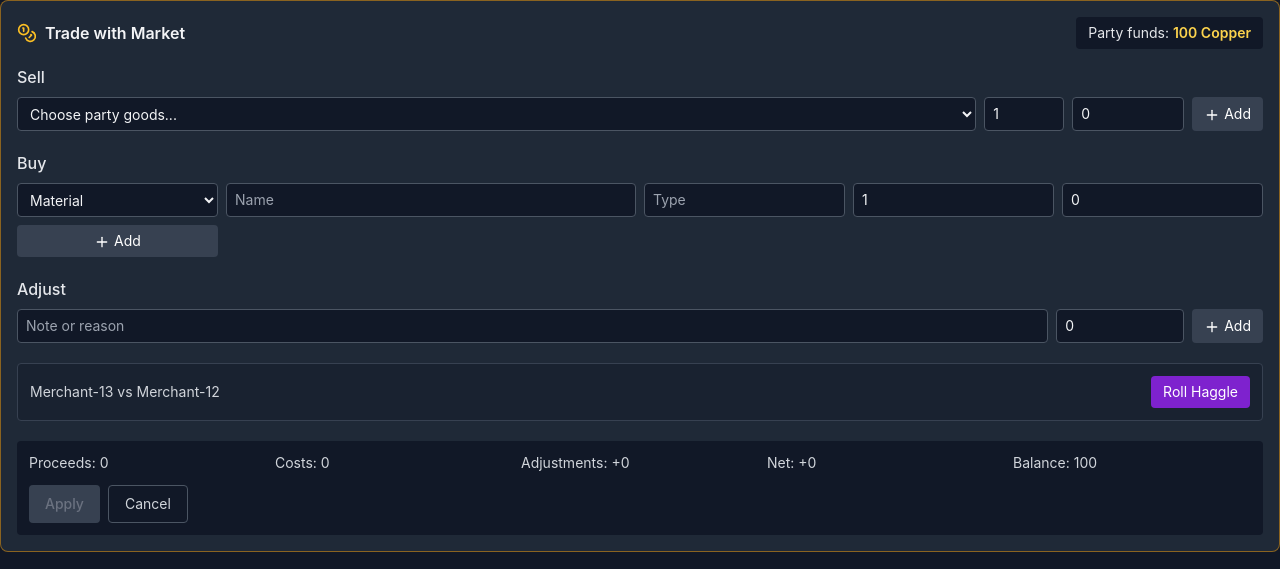
Scenario: TradingResolutionPanel › prefills learned prices for sell and buy lines
Select "Iron Ore — Party Stash (5)" in the dropdown with test id "sell-picker" at [497, 114], box [17,97,976,131]
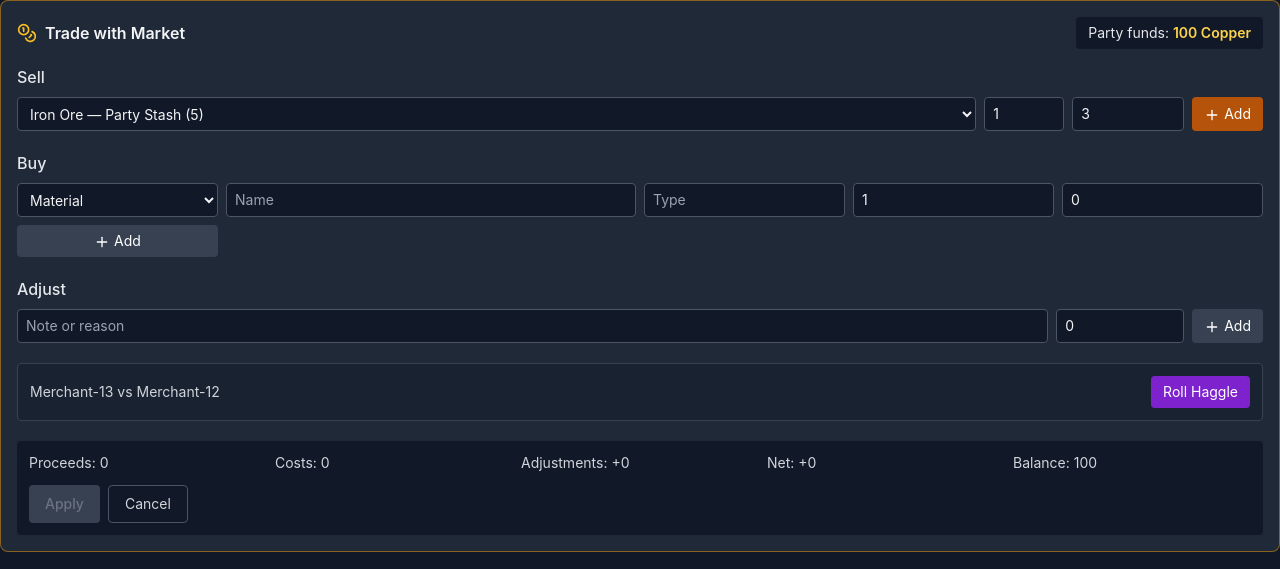
Result: the number field with test id "sell-unit-price-input" holds "3" at [1072,97,1184,131]
Select "Item" in the dropdown with test id "buy-kind-select" at [118, 200], box [17,183,218,217]
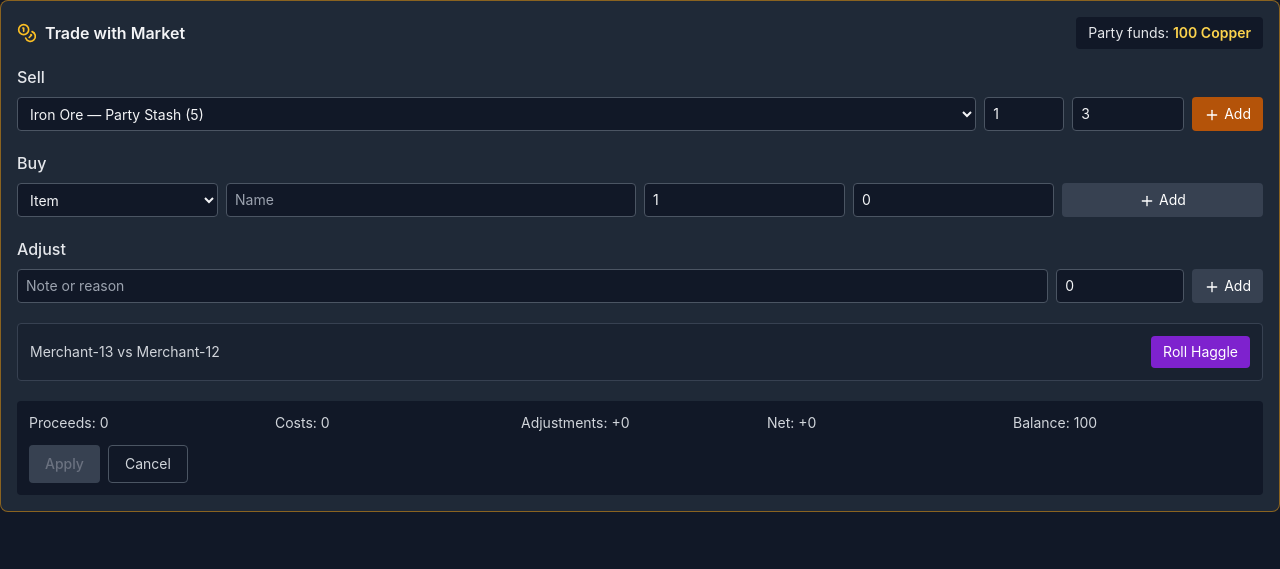
Type "Rope" into the field with test id "buy-name-input" at [431, 200], box [226,183,636,217]
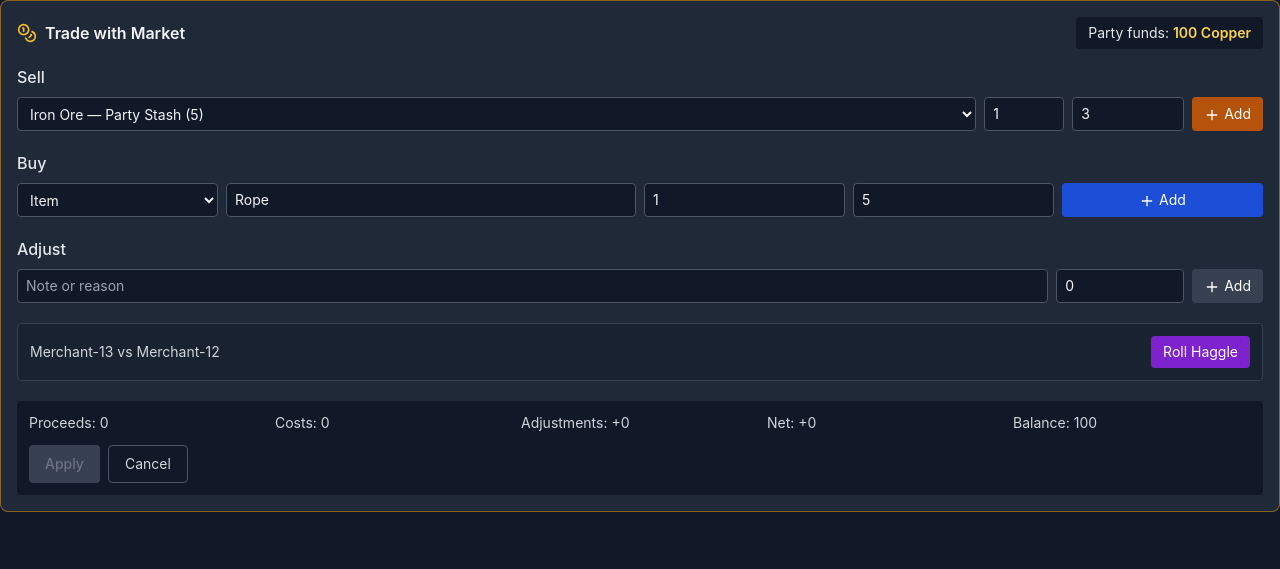
Result: the number field with test id "buy-unit-price-input" holds "5" at [853,183,1054,217]
